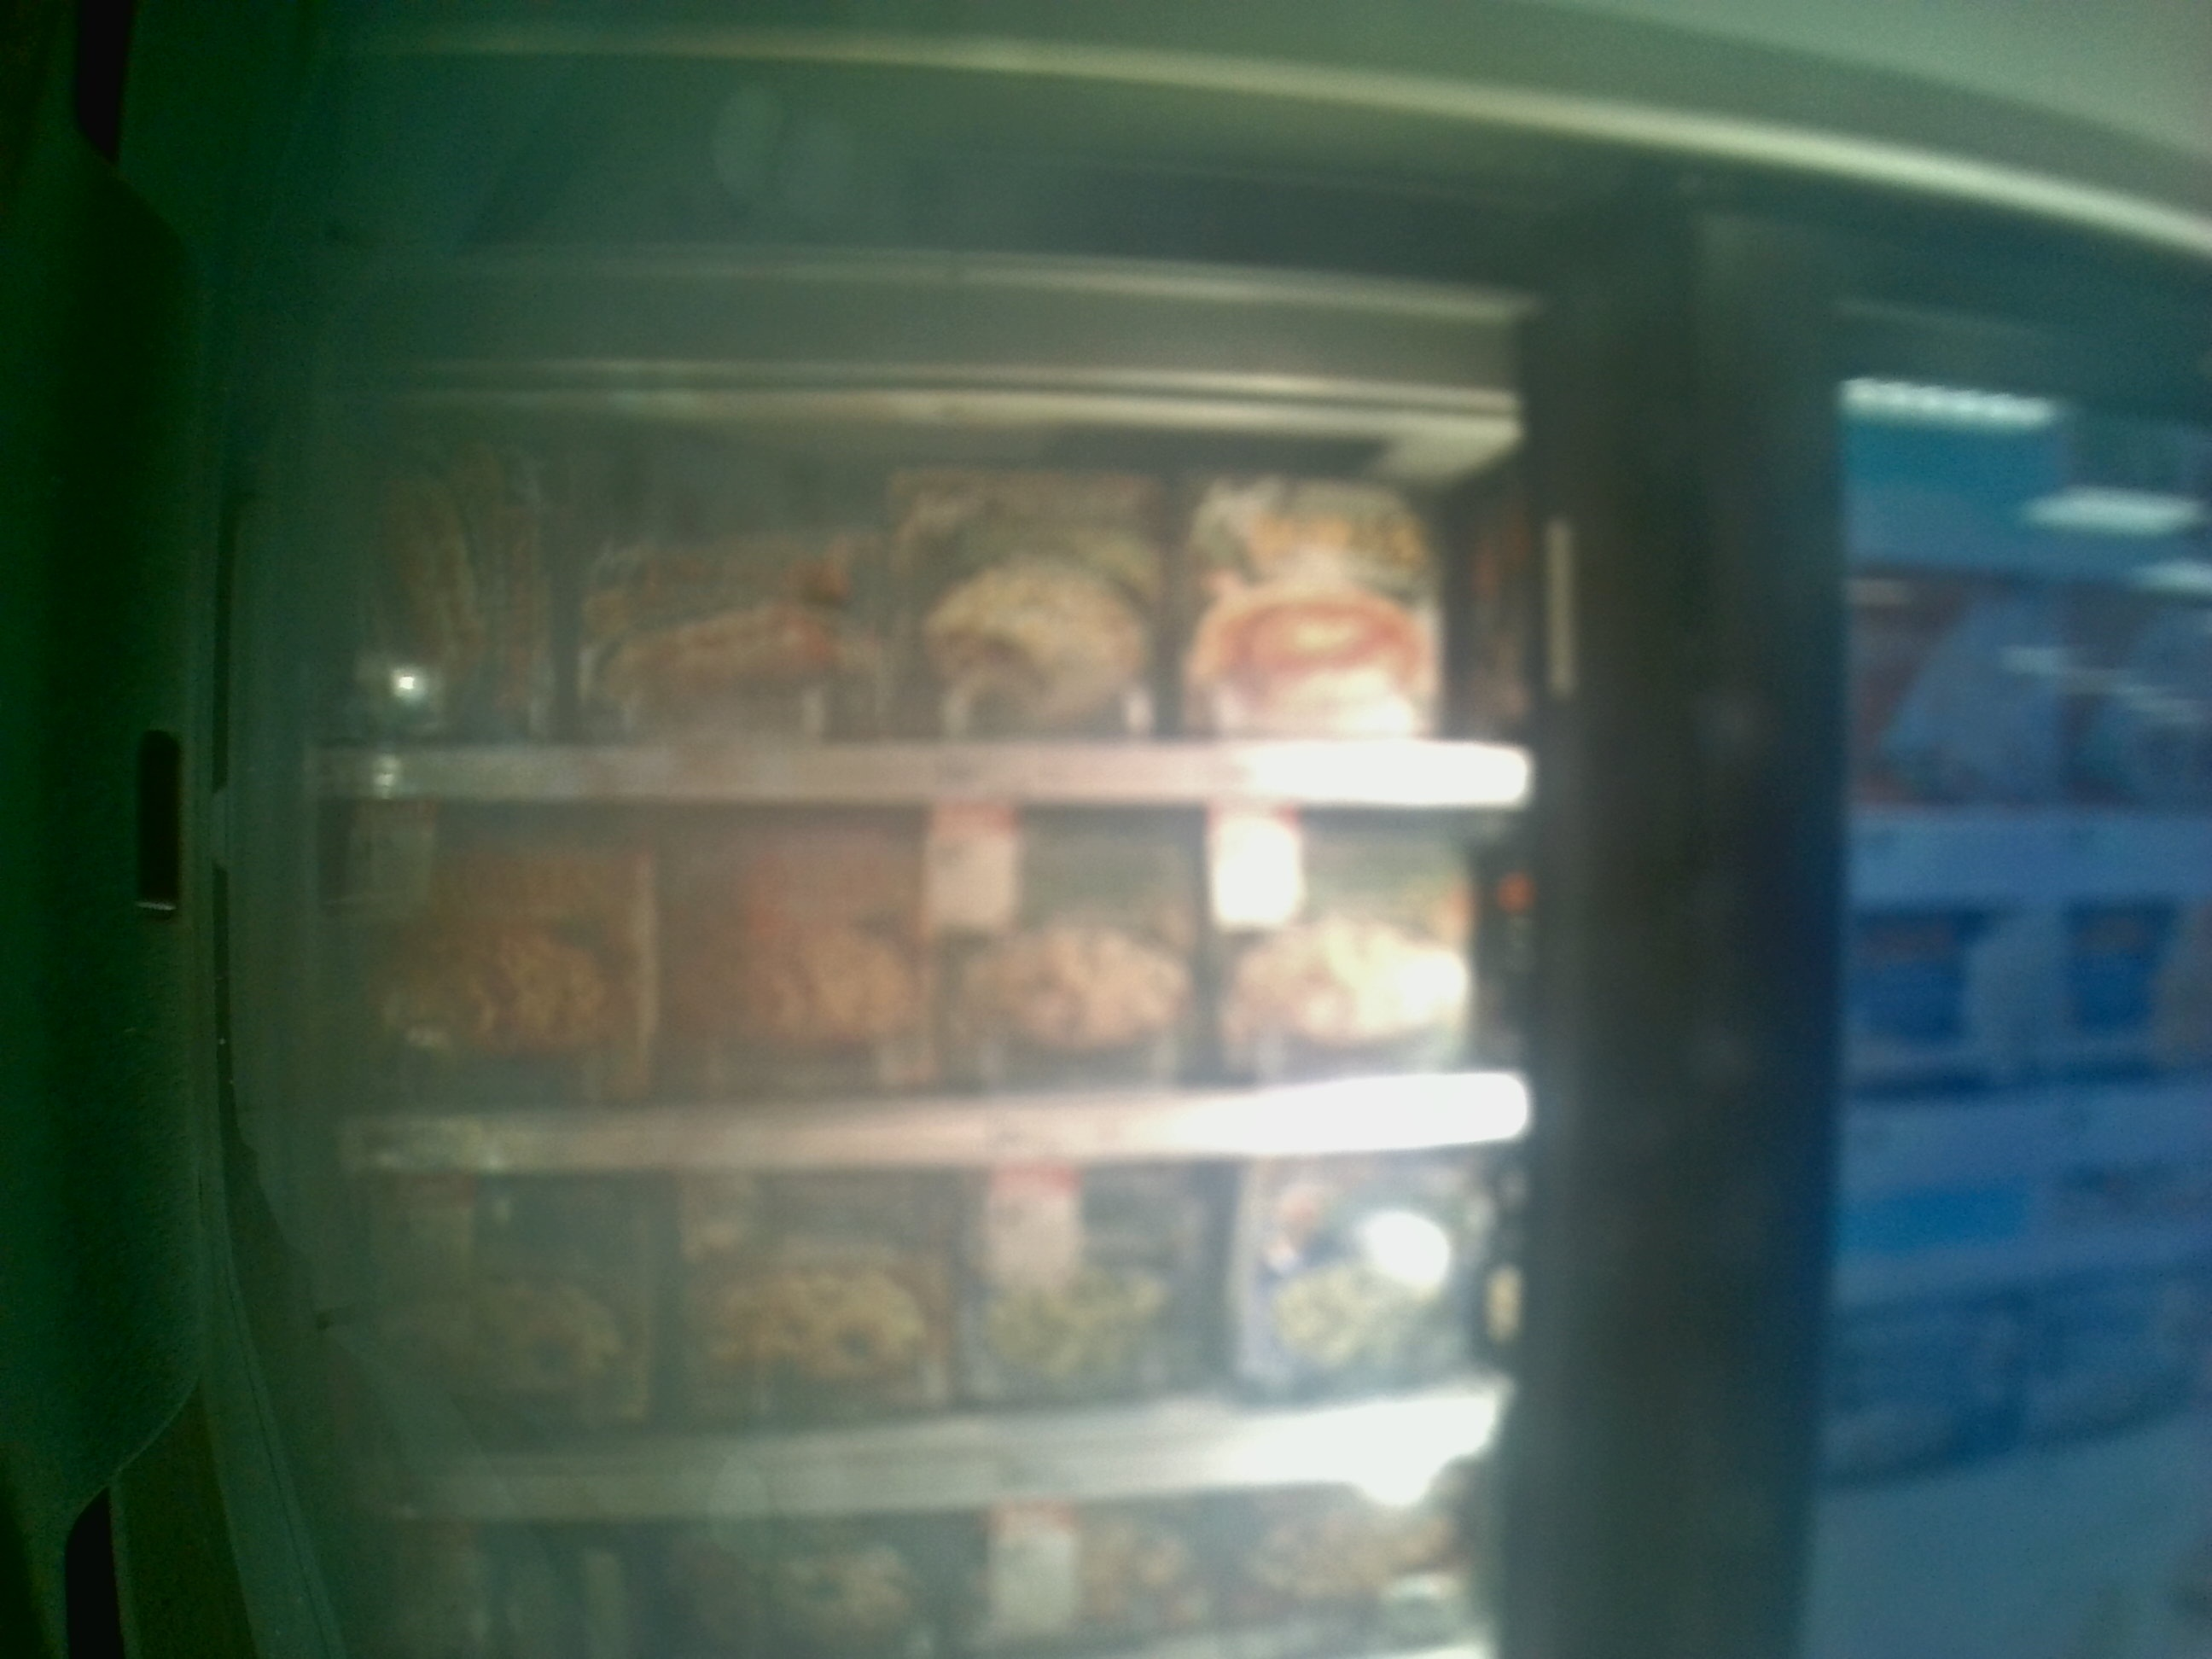frozen-food-shelf: (273, 408, 1545, 809), (263, 807, 1545, 1180), (249, 1185, 1554, 1547)
